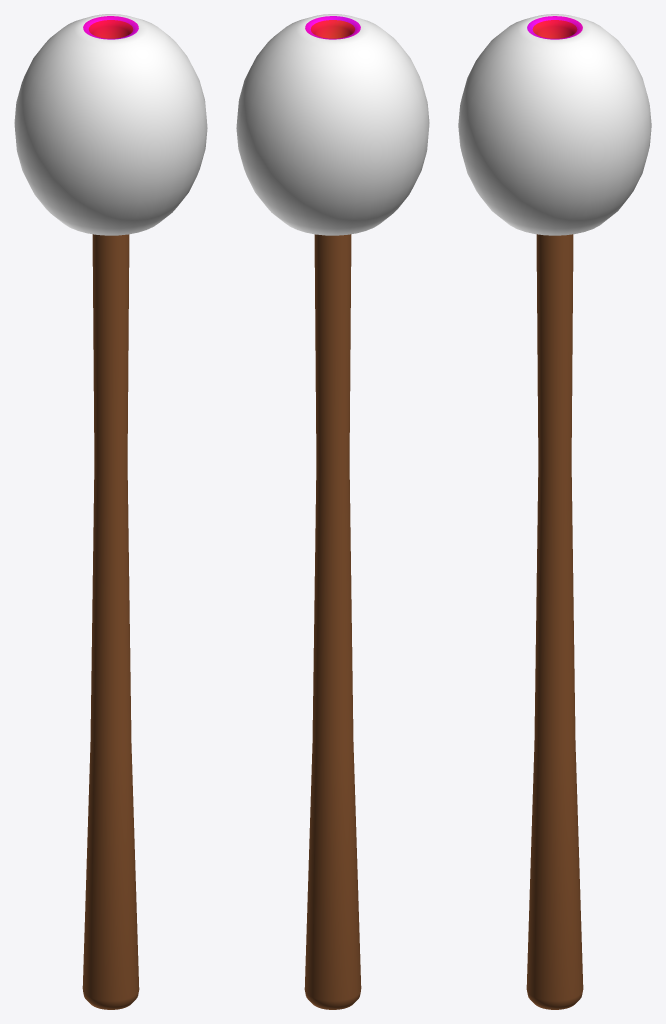
The model's file is Stick.fbx.
The picture shows the model from 3 angles, left to right: view 1: azimuth 30°, elevation 25°; view 2: azimuth 150°, elevation 25°; view 3: azimuth 270°, elevation 25°; orthographic projection.
Parts seen in each view (by area): view 1: Stick; view 2: Stick; view 3: Stick.
Boxes of the visible parts, x1,y1,x2,y2 form: Stick: (14, 14, 207, 1009); Stick: (236, 14, 429, 1009); Stick: (458, 14, 651, 1009).
Size of the model in its own units: 0.0875 by 0.4868 by 0.0875.
